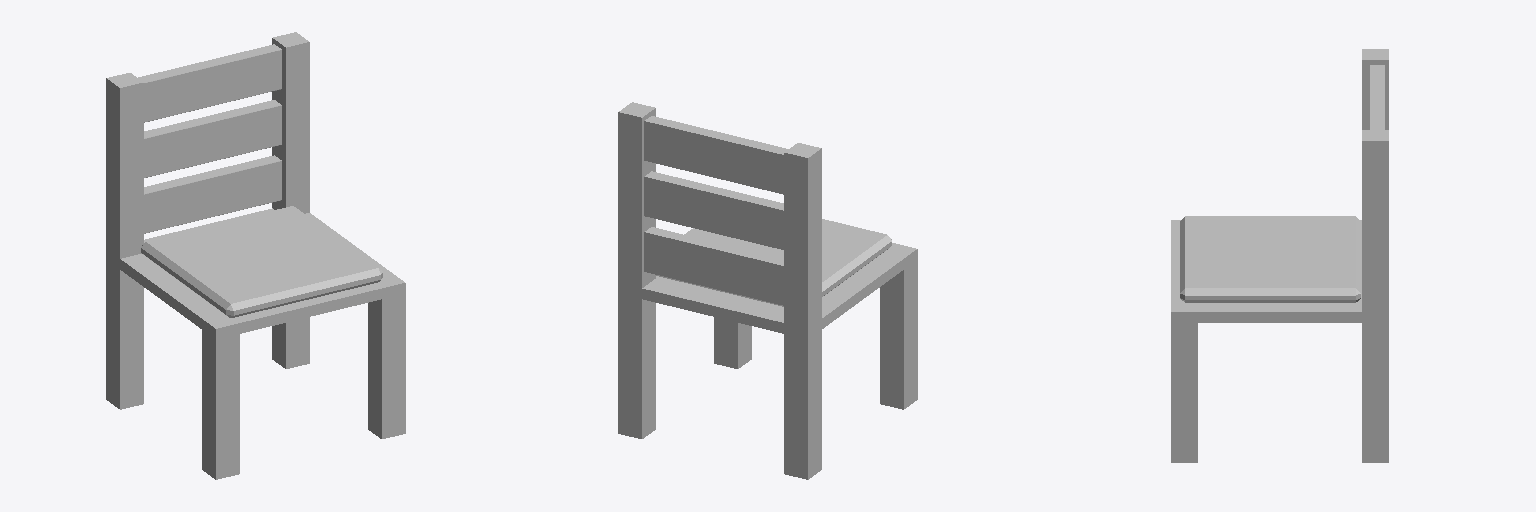
File: WoodenChair.obj
3 views of the same model, side by side, from view 1: azimuth 30°, elevation 25°; view 2: azimuth 150°, elevation 25°; view 3: azimuth 270°, elevation 25° (orthographic).
Parts seen in each view (by area): view 1: Chair, Back_Panels, Seat; view 2: Chair, Back_Panels, Seat; view 3: Chair, Seat, Back_Panels.
Boxes of the visible parts, <box> form: Chair: <box>106,32,405,479</box>; Back_Panels: <box>138,44,281,233</box>; Seat: <box>141,206,382,317</box>; Chair: <box>618,102,917,479</box>; Back_Panels: <box>644,116,787,305</box>; Seat: <box>656,219,891,306</box>; Chair: <box>1171,49,1388,462</box>; Seat: <box>1180,216,1360,302</box>; Back_Panels: <box>1370,65,1384,129</box>.
Bounding box in the file's own units: 2 × 3.24 × 2.